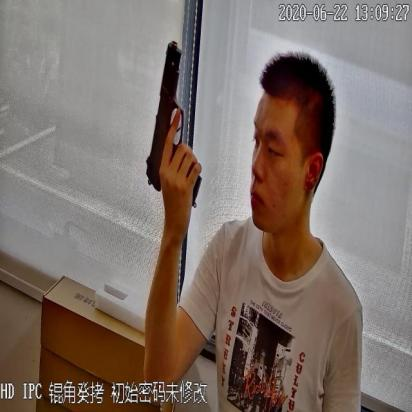Gun: (136, 34, 200, 208)
